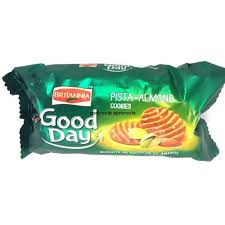gooday-small: (9, 68, 223, 162)
